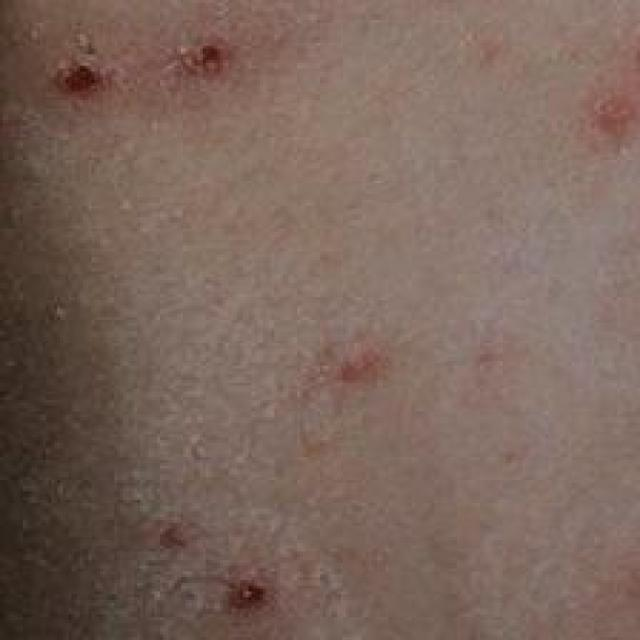others: (14, 9, 634, 630)
